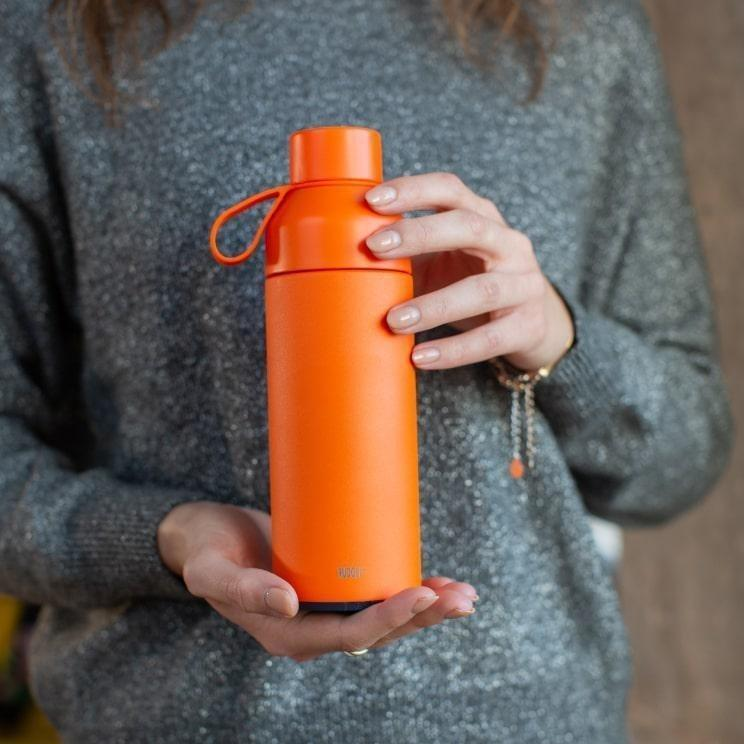gym bottle: (260, 123, 426, 612)
